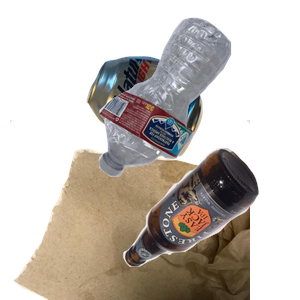glass: (120, 145, 300, 300)
metal: (84, 53, 279, 202)
plastic: (96, 15, 300, 184)
trash: (10, 120, 250, 300)
